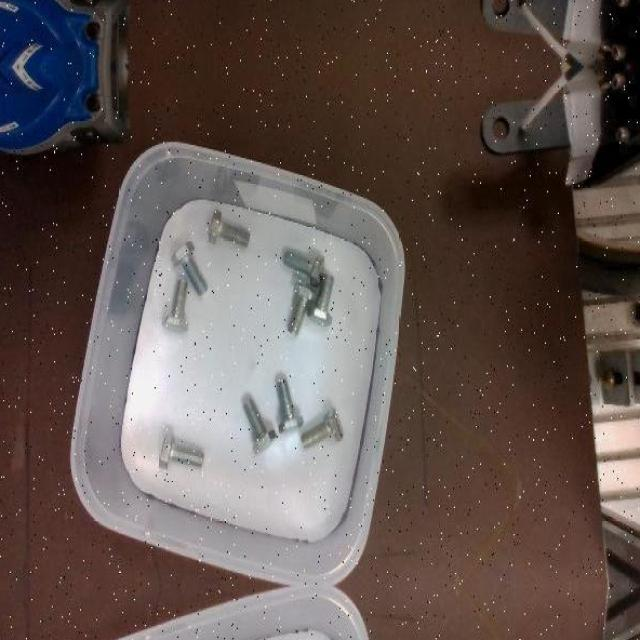screw: (170, 240, 208, 295), (243, 398, 277, 454), (300, 407, 342, 448), (160, 432, 205, 468), (288, 281, 318, 335), (208, 210, 250, 248), (284, 250, 326, 287), (277, 378, 305, 433), (308, 272, 336, 326), (162, 278, 189, 332)
